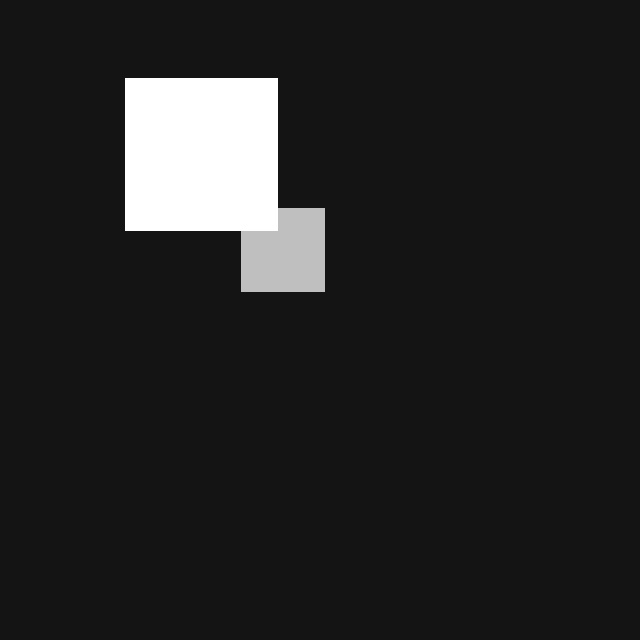square: (125, 78, 277, 230), (241, 208, 324, 291)
